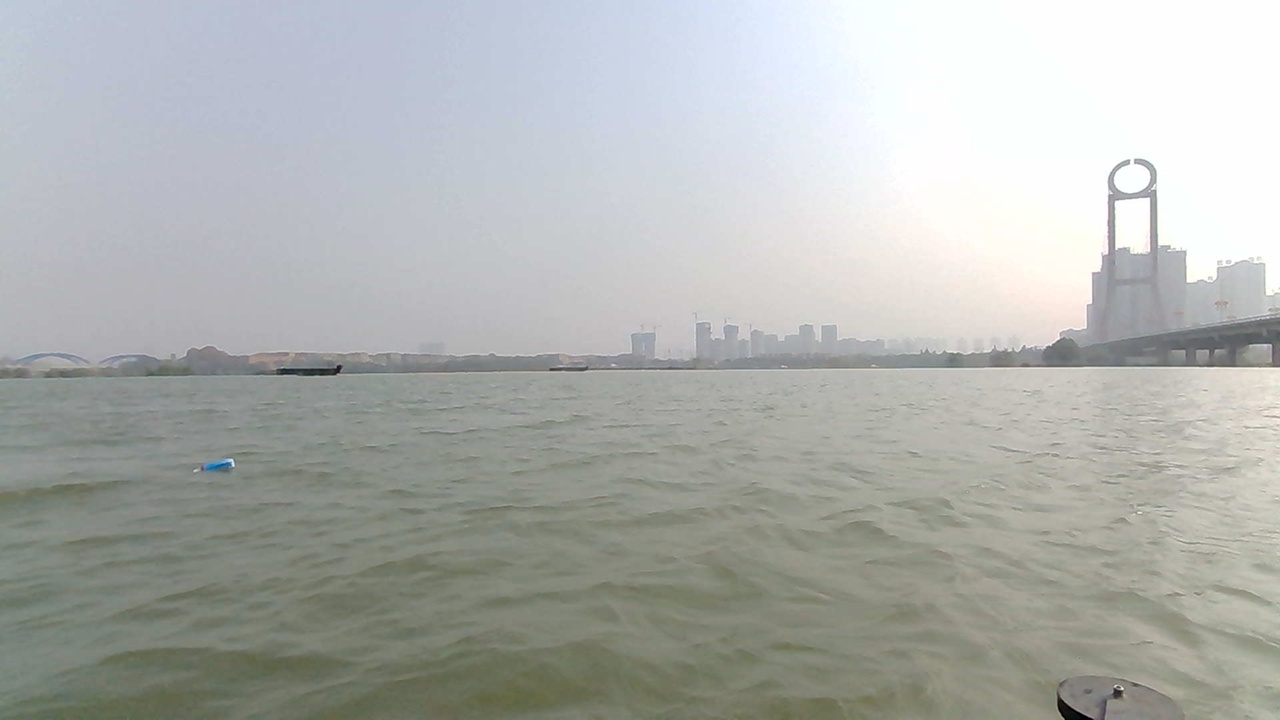bottle: (191, 456, 243, 481)
